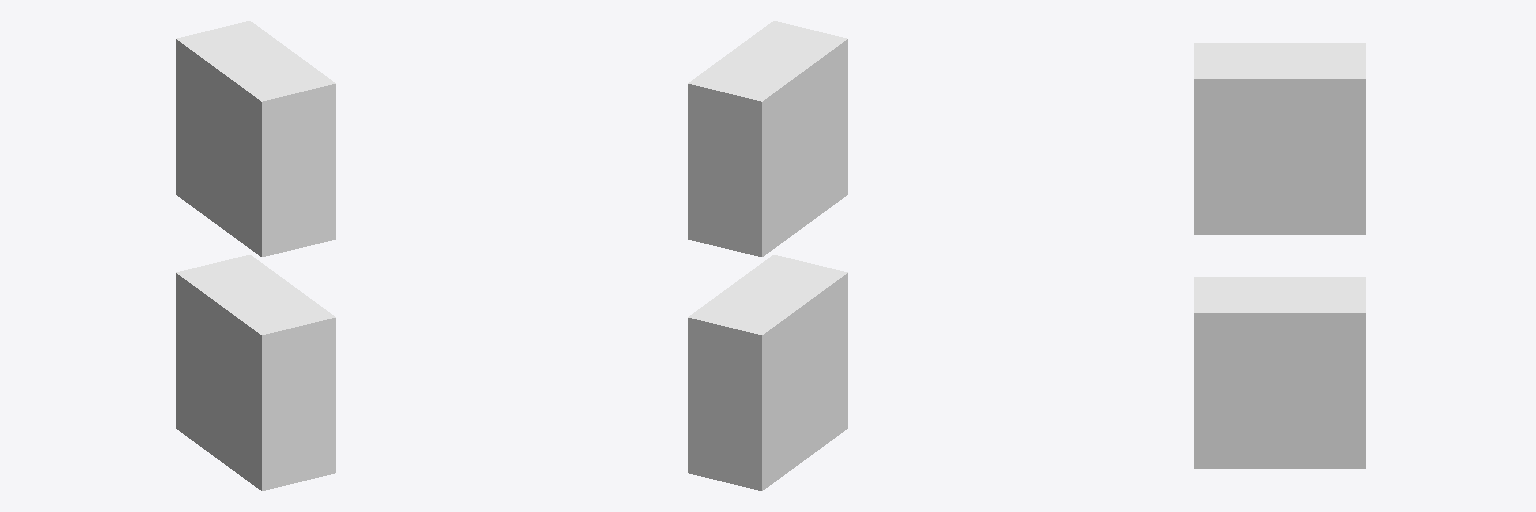
File: nowruz-display-0.obj
The picture shows the model from 3 angles: view 1: azimuth 30°, elevation 25°; view 2: azimuth 150°, elevation 25°; view 3: azimuth 270°, elevation 25°; orthographic projection.
Parts seen in each view (by area): view 1: object 1; view 2: object 1; view 3: object 1.
Boxes of the visible parts, box(x1,y1,x2,y2) form: object 1: box(176, 21, 335, 490); object 1: box(688, 21, 847, 490); object 1: box(1194, 43, 1365, 468).
Size of the model in its own units: 0.1 by 0.5 by 0.2.